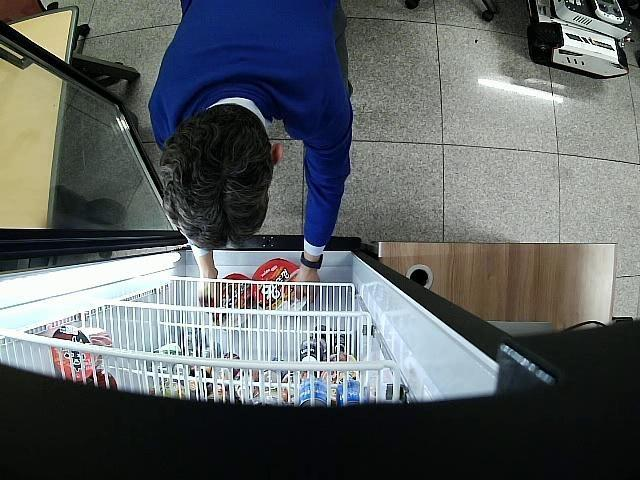10_wangTtukkeong: (252, 258, 308, 310), (215, 273, 254, 326)
